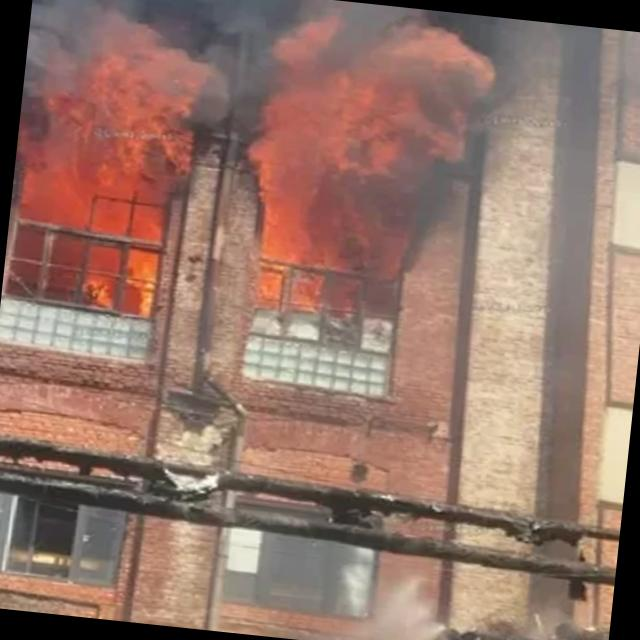Smoke: (241, 0, 507, 196), (20, 0, 247, 136)
